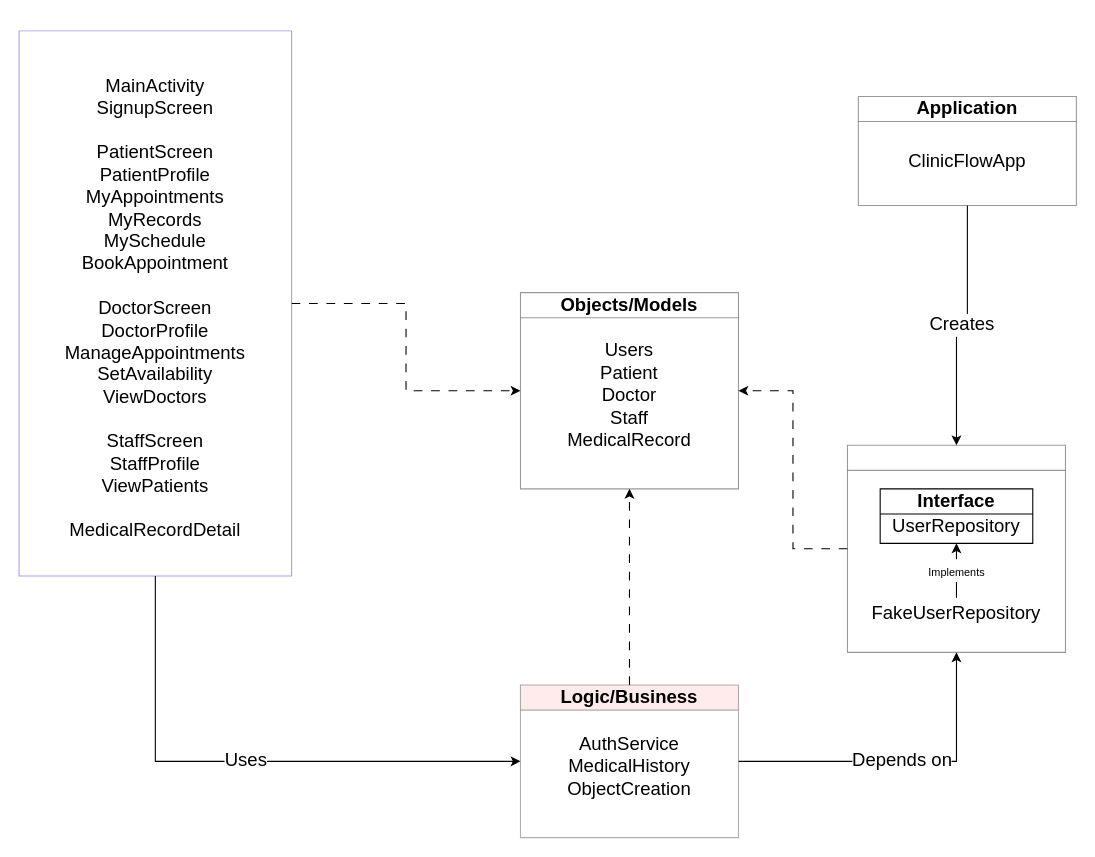
The diagram is 1095 pixels wide and 857 high, and some of its shapes have lost their labels. Each missing label, with the box of its shape:
Persistence: (846, 444, 1065, 652)
Presentation: (18, 30, 292, 576)
